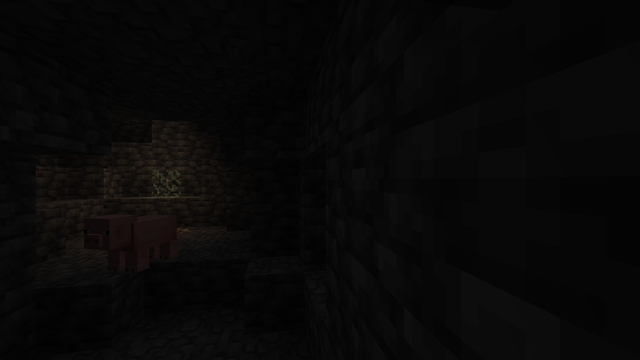cochons: (102, 213, 177, 272)
